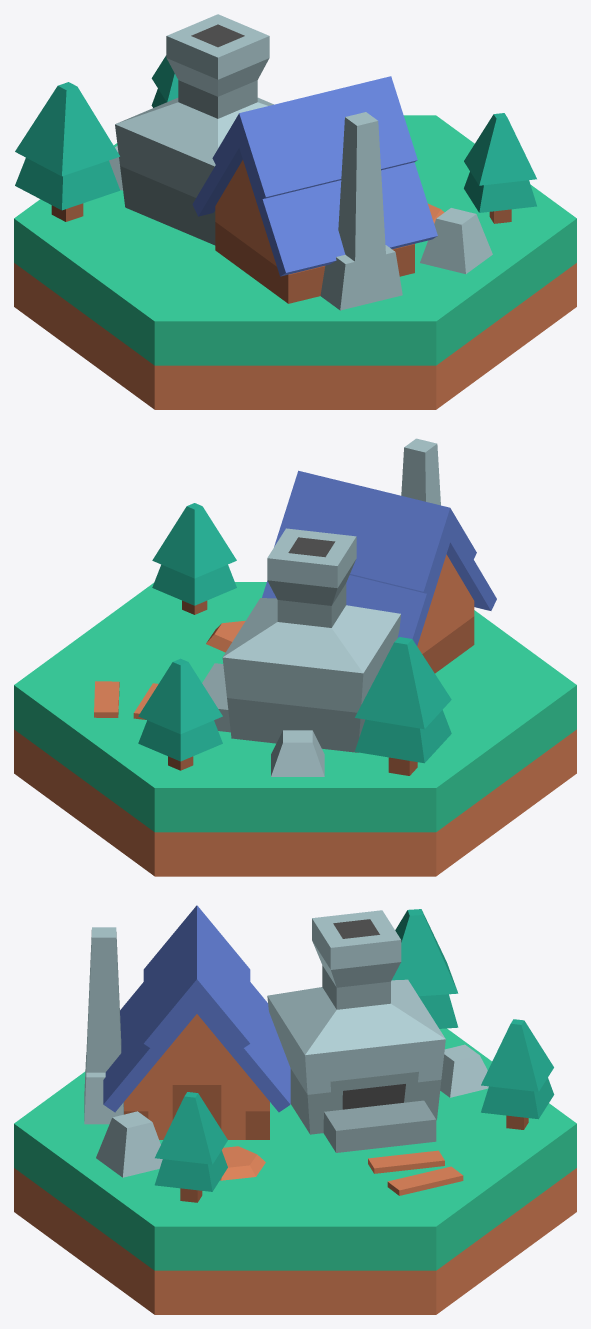
The model's file is Building Smelter.glb.
3 views of the same model, one above another, from view 1: azimuth 30°, elevation 25°; view 2: azimuth 150°, elevation 25°; view 3: azimuth 270°, elevation 25° (orthographic).
Visible parts, largest first — view 1: building_smelter, building, furnace, chimney, tree.002, tree.001, rock.001, tree; view 2: building_smelter, furnace, building, tree.002, tree.001, tree, rock, chimney, path.001, path; view 3: building_smelter, furnace, building, chimney, tree, tree.001, tree.002, rock.001, path.001, rock, path.
Boxes of the visible parts, left/top/right/bottom form: building_smelter: left=14, top=115, right=576, bottom=409; building: left=192, top=76, right=437, bottom=303; furnace: left=115, top=14, right=273, bottom=245; chimney: left=320, top=112, right=402, bottom=310; tree.002: left=15, top=82, right=120, bottom=221; tree.001: left=464, top=113, right=536, bottom=223; rock.001: left=420, top=208, right=492, bottom=273; tree: left=151, top=55, right=178, bottom=107; building_smelter: left=14, top=582, right=576, bottom=876; furnace: left=202, top=528, right=400, bottom=752; building: left=262, top=470, right=496, bottom=673; tree.002: left=354, top=637, right=451, bottom=775; tree.001: left=152, top=503, right=236, bottom=614; tree: left=138, top=658, right=222, bottom=770; rock: left=271, top=730, right=324, bottom=776; chimney: left=401, top=438, right=440, bottom=505; path.001: left=94, top=681, right=158, bottom=719; path: left=206, top=620, right=245, bottom=652; building_smelter: left=14, top=1028, right=576, bottom=1314; furnace: left=267, top=910, right=445, bottom=1152; building: left=103, top=905, right=290, bottom=1139; chimney: left=84, top=927, right=123, bottom=1124; tree: left=481, top=1019, right=554, bottom=1129; tree.001: left=154, top=1092, right=227, bottom=1202; tree.002: left=392, top=909, right=458, bottom=1028; rock.001: left=96, top=1111, right=162, bottom=1177; path.001: left=368, top=1150, right=463, bottom=1195; rock: left=440, top=1044, right=488, bottom=1097; path: left=220, top=1146, right=265, bottom=1180.
Size of the model in its own units: 1 by 0.6 by 1.15.
